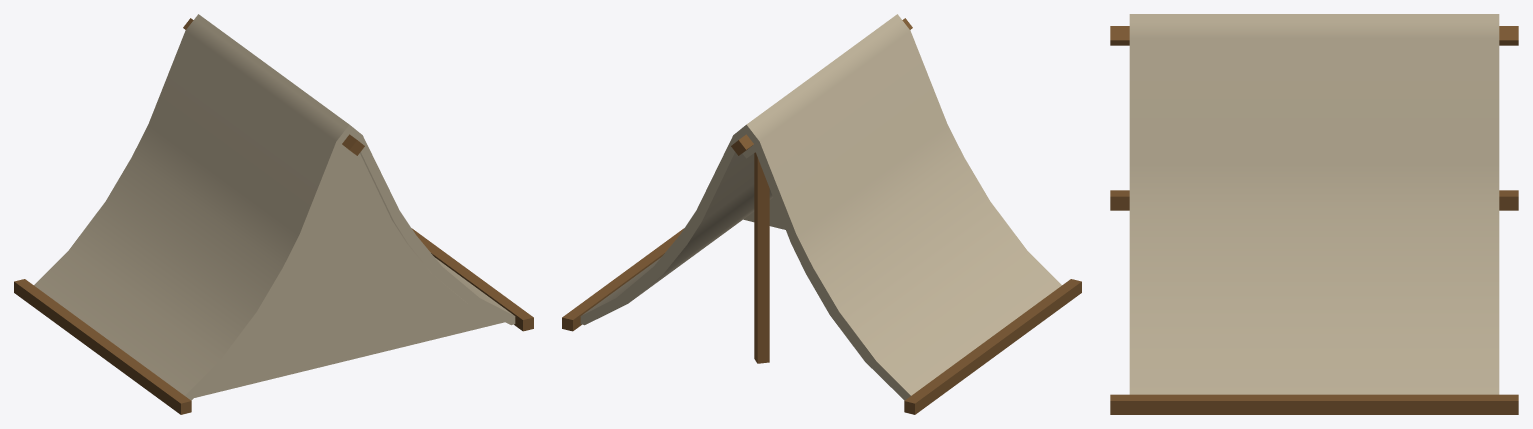
The model's file is Tent.fbx.
3 views of the same model, side by side, from view 1: azimuth 30°, elevation 25°; view 2: azimuth 150°, elevation 25°; view 3: azimuth 270°, elevation 25° (orthographic). The views are drawn at different scales.
Parts seen in each view (by area): view 1: Tent; view 2: Tent; view 3: Tent.
Part boxes in pixels (left/top/right/bottom): Tent: left=14, top=14, right=533, bottom=414; Tent: left=562, top=14, right=1081, bottom=414; Tent: left=1110, top=14, right=1518, bottom=414.
Size of the model in its own units: 9.14 by 6.12 by 7.48.
